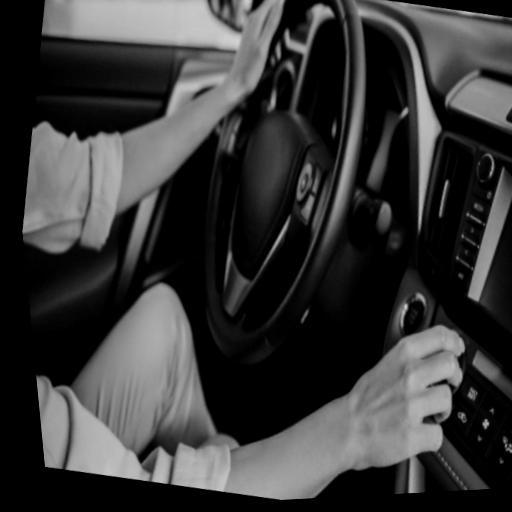Hands-on-the-Wheel: (194, 0, 337, 124)
